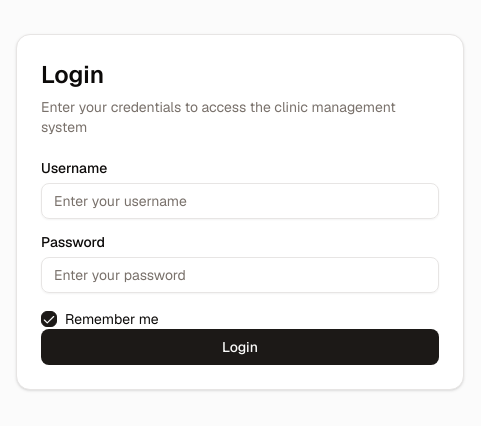
Test case: LoginPage › shows validation error when form is submitted without values
Click the button "Login" at coordinates (240, 347), box [41,329,439,365]
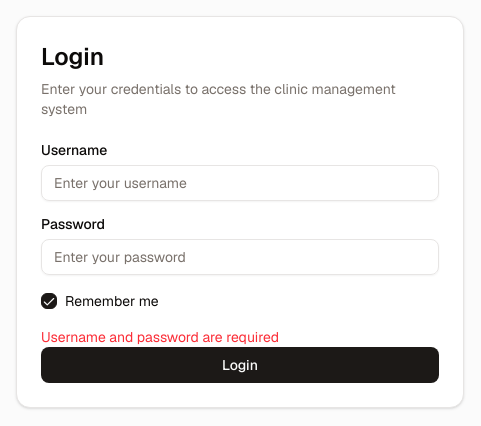
Expected: the text "Username and password are required" is shown, [41,328,279,346]
